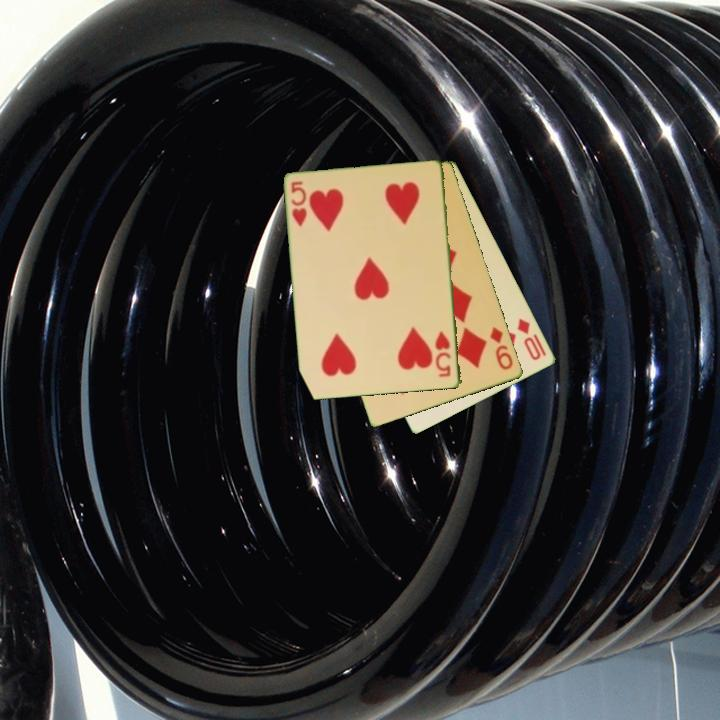10d: (514, 315, 544, 363)
5h: (432, 328, 454, 380), (288, 178, 310, 229)
9d: (487, 323, 516, 373)
